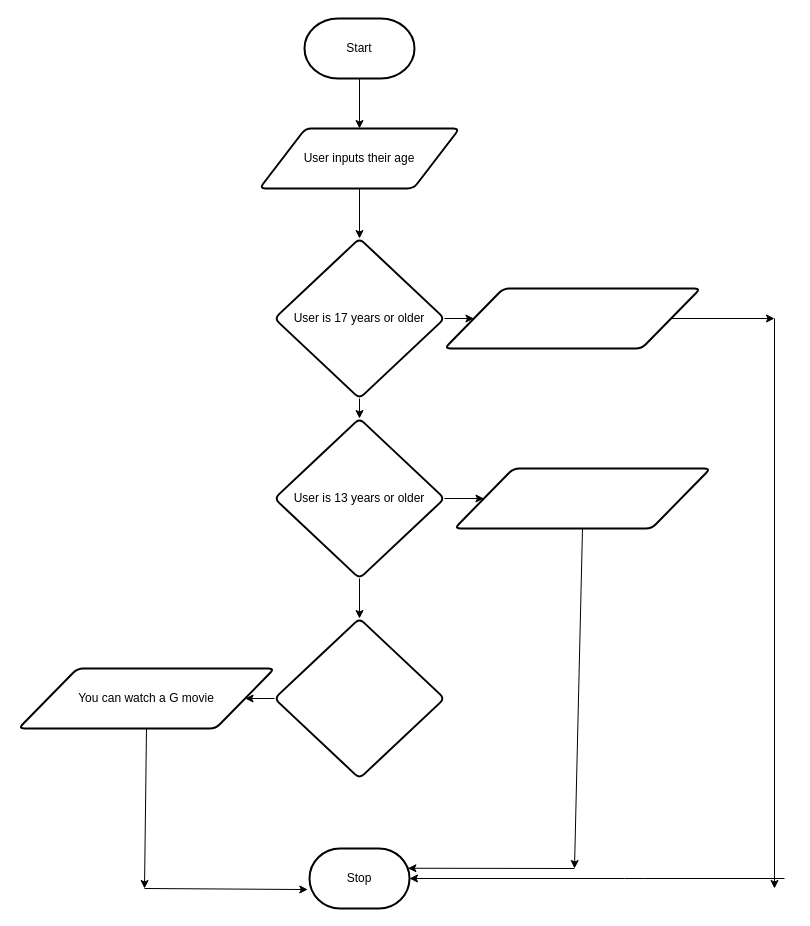
The diagram is 810 pixels wide and 926 high, and some of its shapes have lost their labels. Each missing label, with the centre of its shape:
"User is 5 years or older" belongs at point 359,698.
"You can watch a PG 13 movie" belongs at point 582,498.
"You can watch a R Rated movie" belongs at point 572,318.
